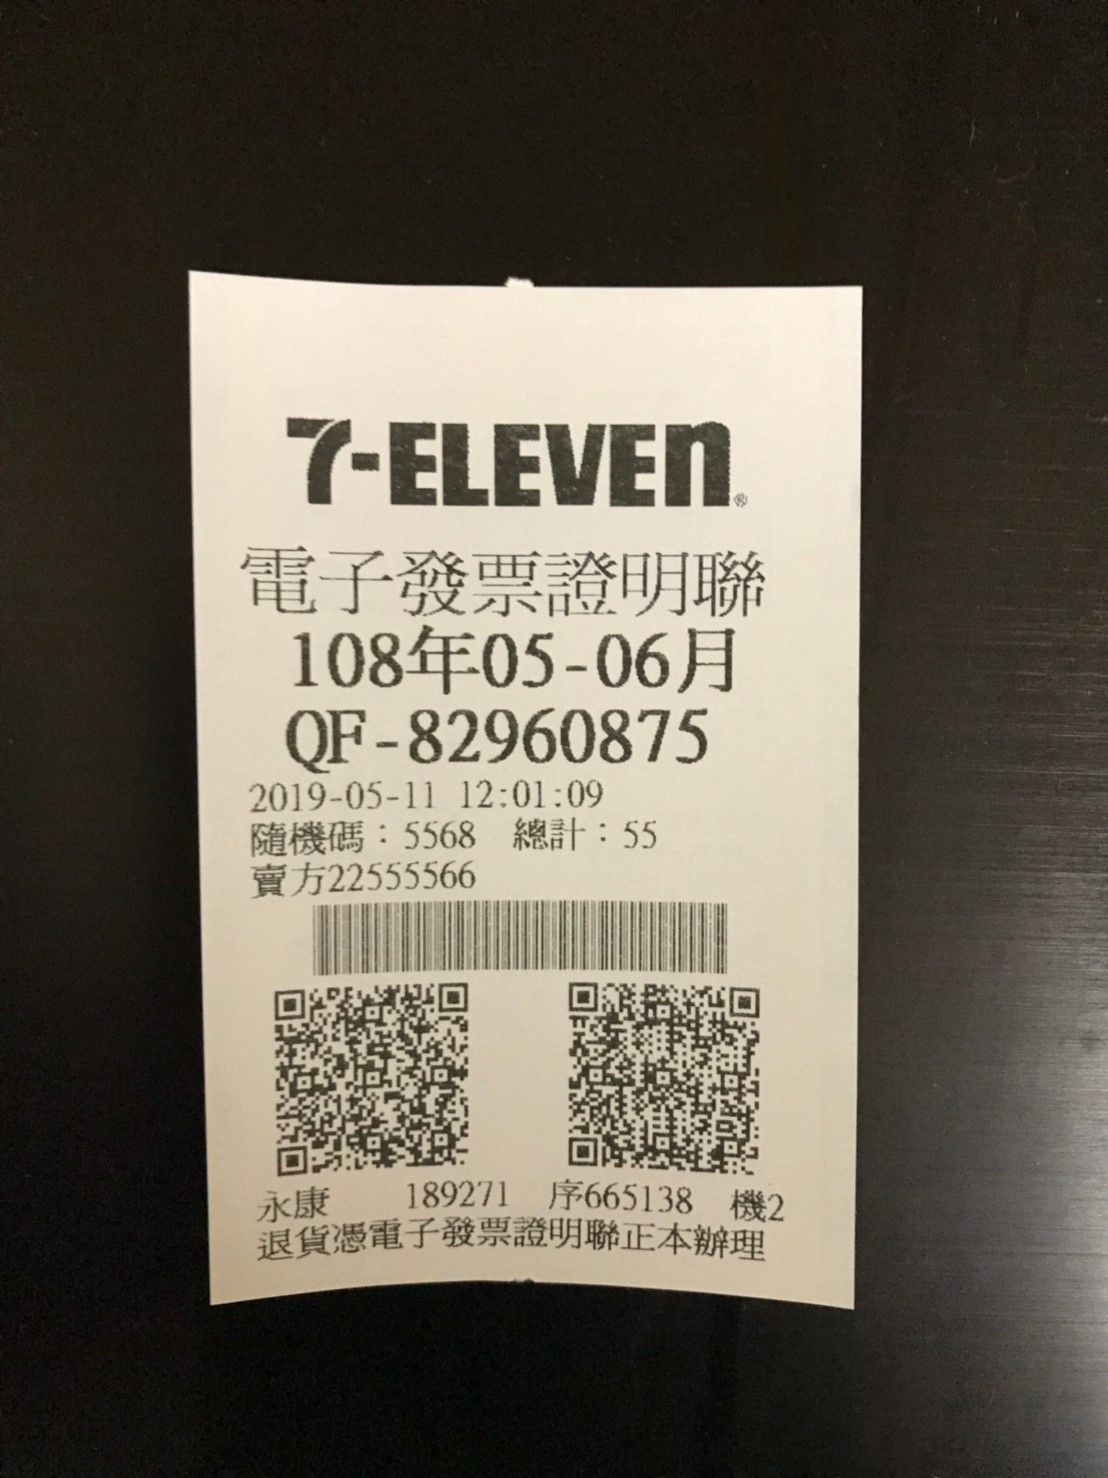Date_New: (289, 620, 743, 696)
Number_New: (405, 701, 713, 770)
